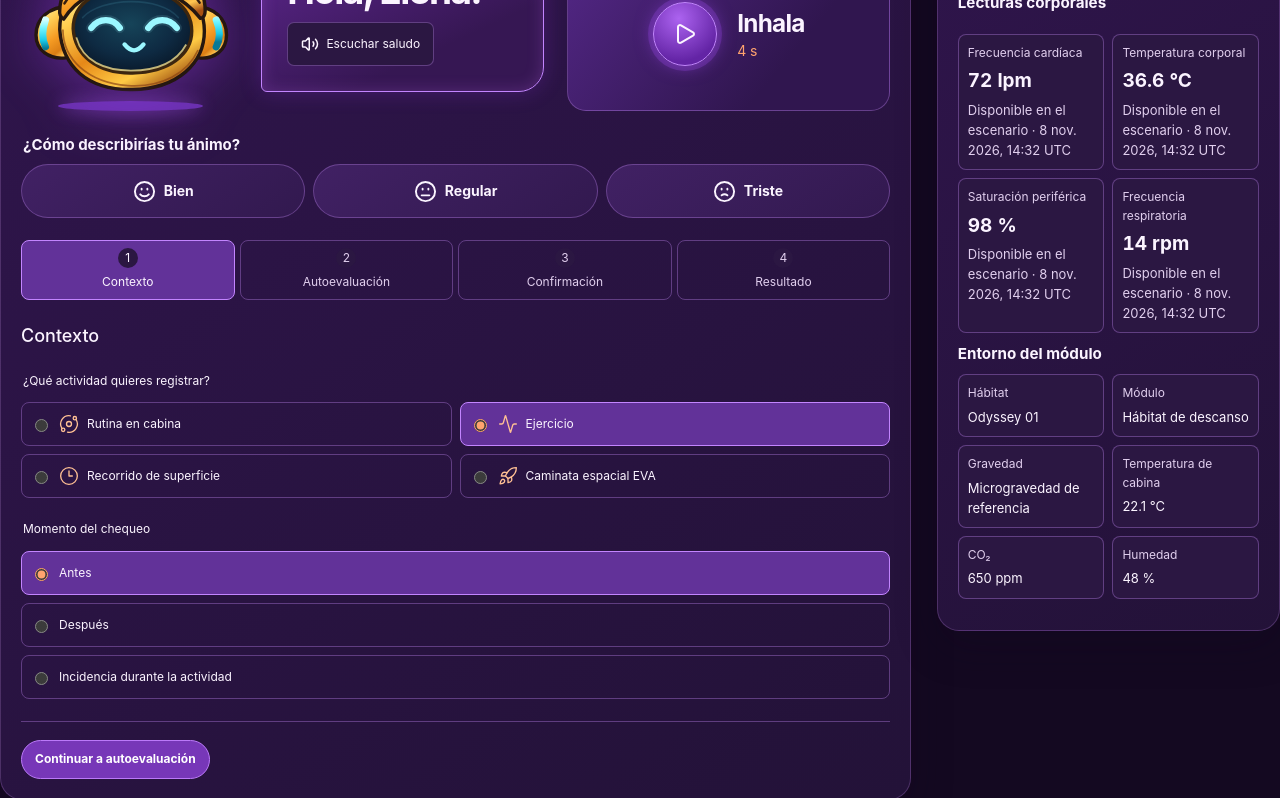
Scenario: confirma los campos de la actividad y conserva el borrador al fallar el guardado
Earlier steps of the test are not shown.
(page scrolled)
Click the button "Continuar a autoevaluación". click: (115, 759)
box: [21,740,210,779]
(page scrolled)
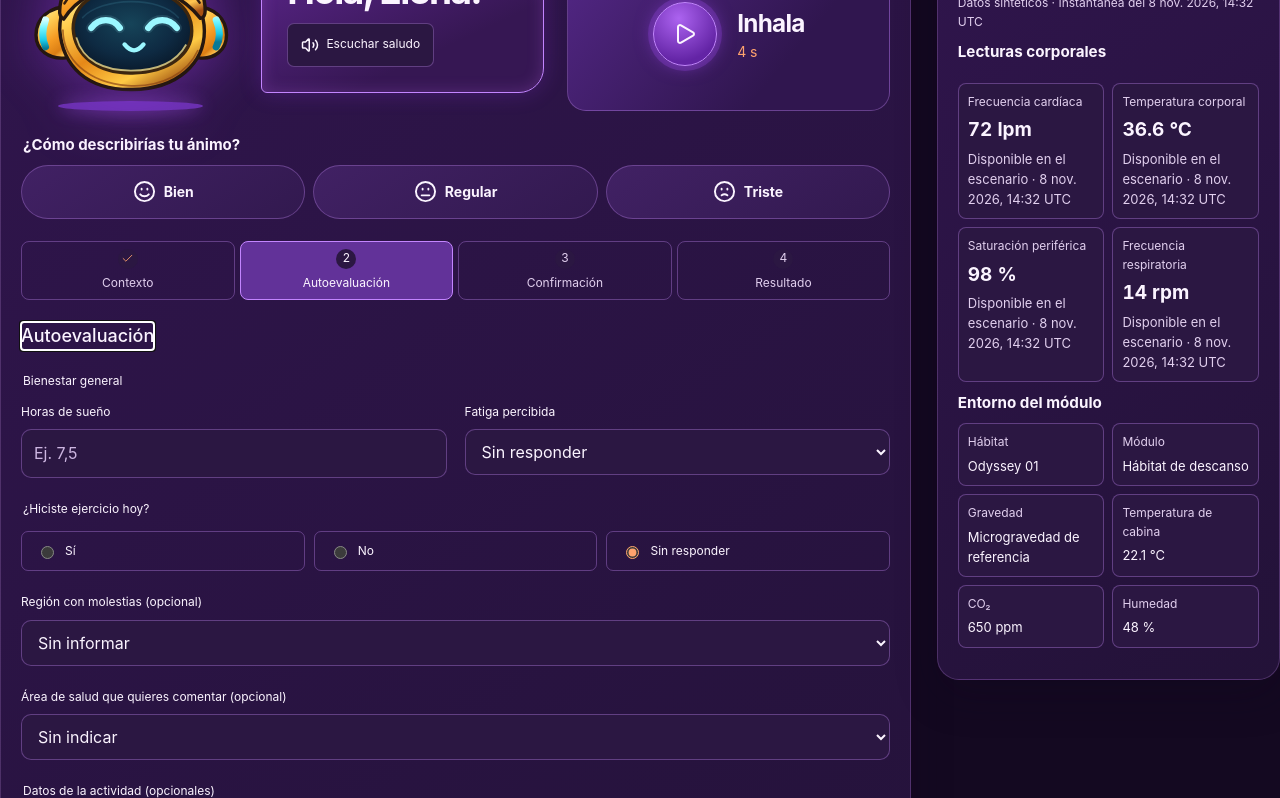
Type "7.5" into the number field labelled "Horas de sueño". click: (234, 454)
box: [21,429,447,478]
(page scrolled)
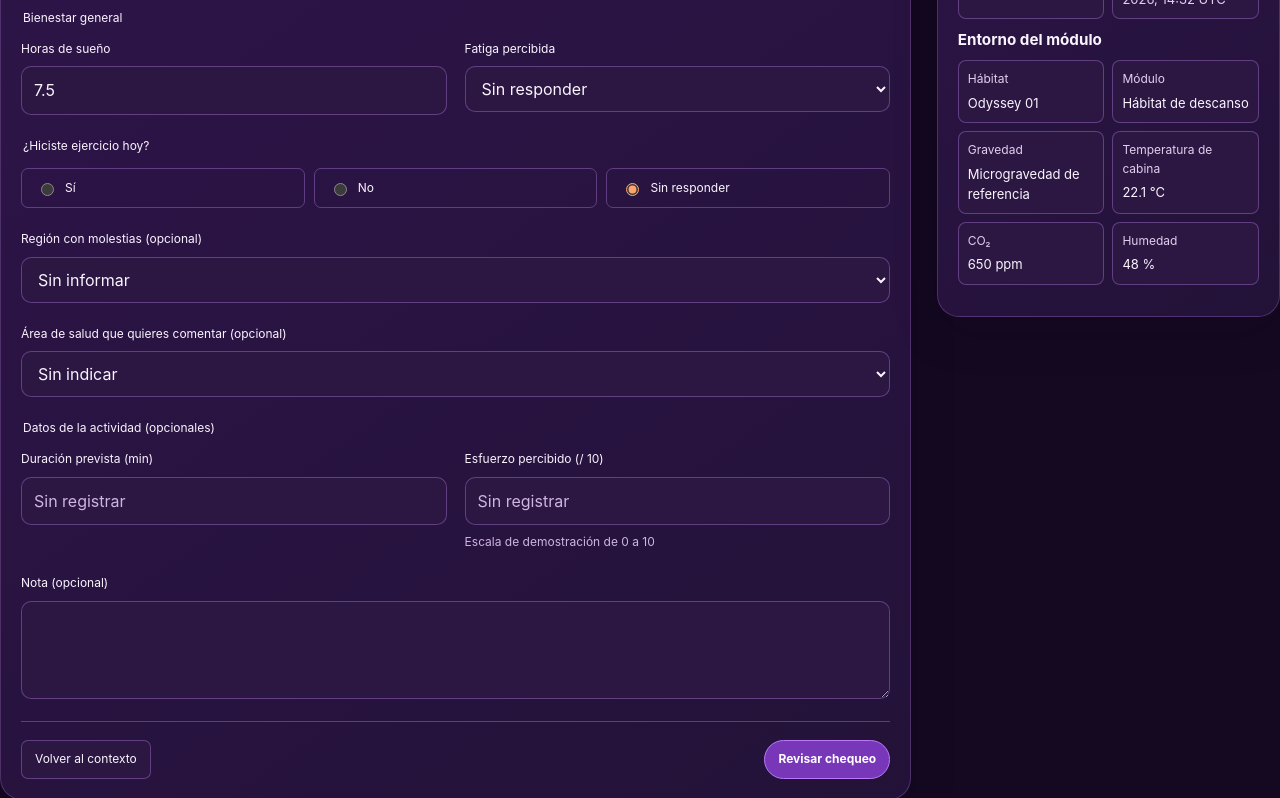
Type "0" into the number field labelled "Esfuerzo percibido (/ 10) Escala de demostración de 0 a 10". click: (677, 501)
box: [465,477,890,526]
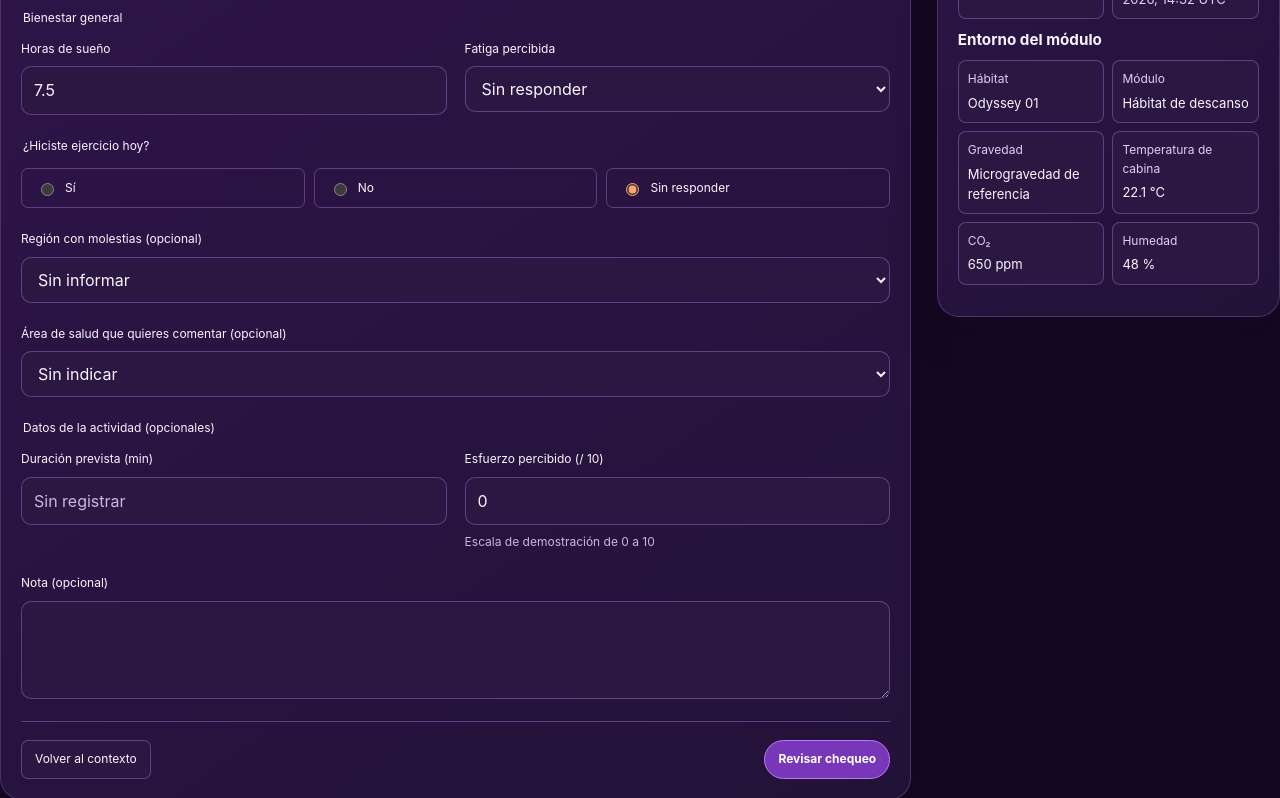
Expected: the number field labelled "Duración prevista (min)" is shown, [21,477,447,526]
Click the button "Revisar chequeo". click: (827, 760)
box: [764,740,890,779]
(page scrolled)
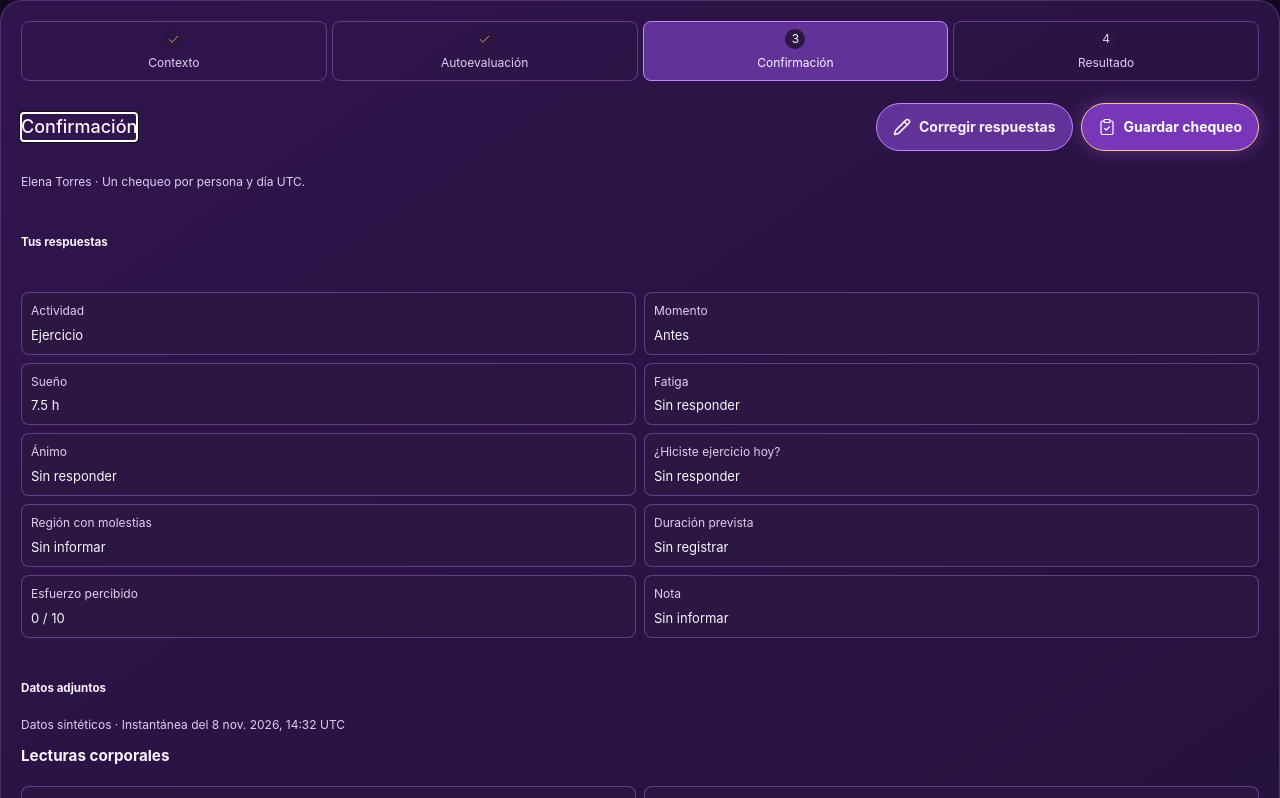
Click the button "Guardar chequeo". click: (1170, 127)
box: [1080,103,1259,151]
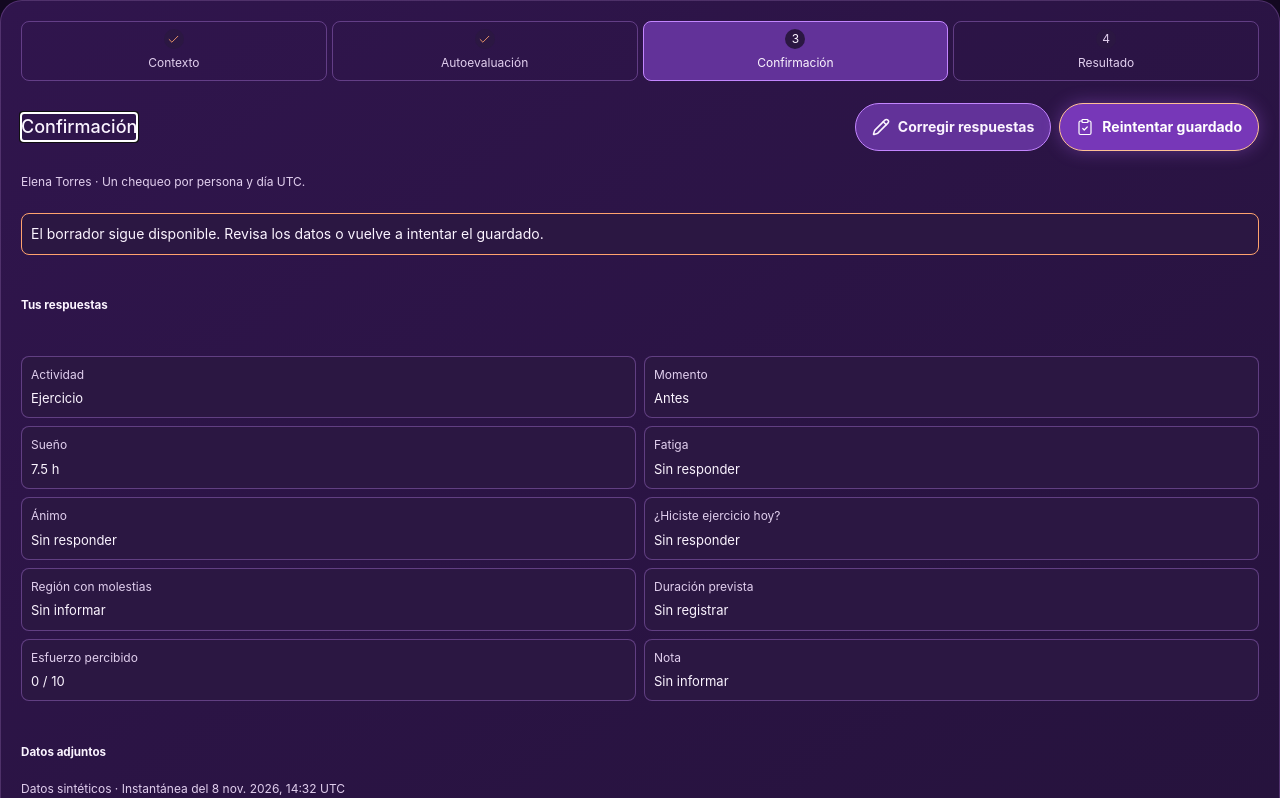
Expected: the text "Chequeo guardado" is not shown
Expected: the message shows "El borrador sigue disponible", [31,225,544,242]
Click the button "Reintentar guardado". click: (1159, 127)
box: [1059,103,1259,151]
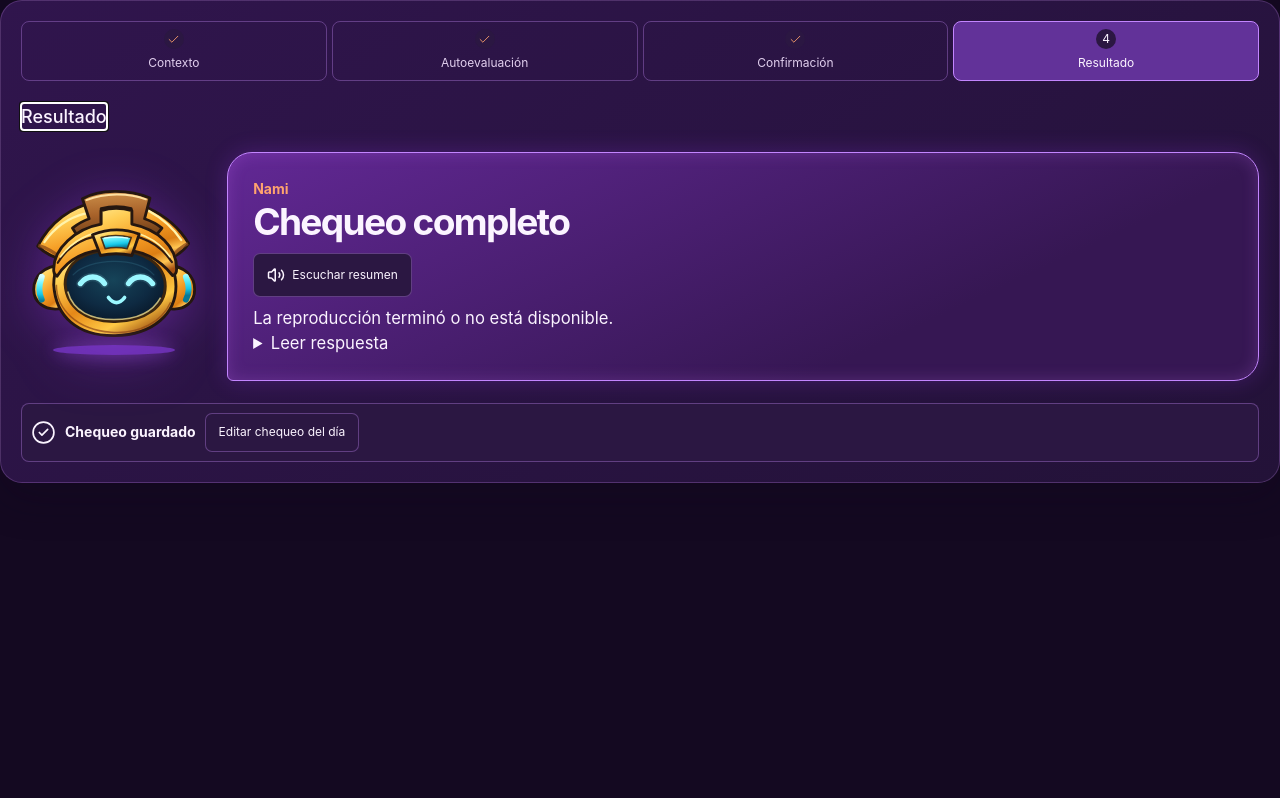
Expected: the text "Chequeo guardado" is shown, [65,421,196,443]
